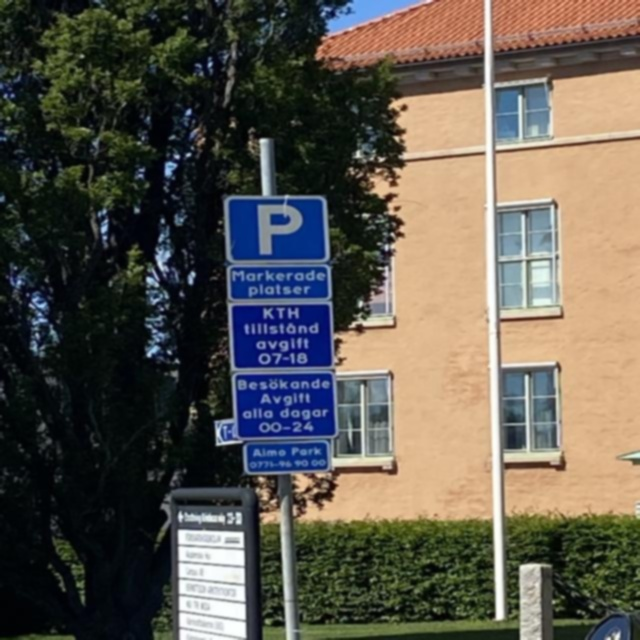P-skylt: (225, 197, 331, 265)
